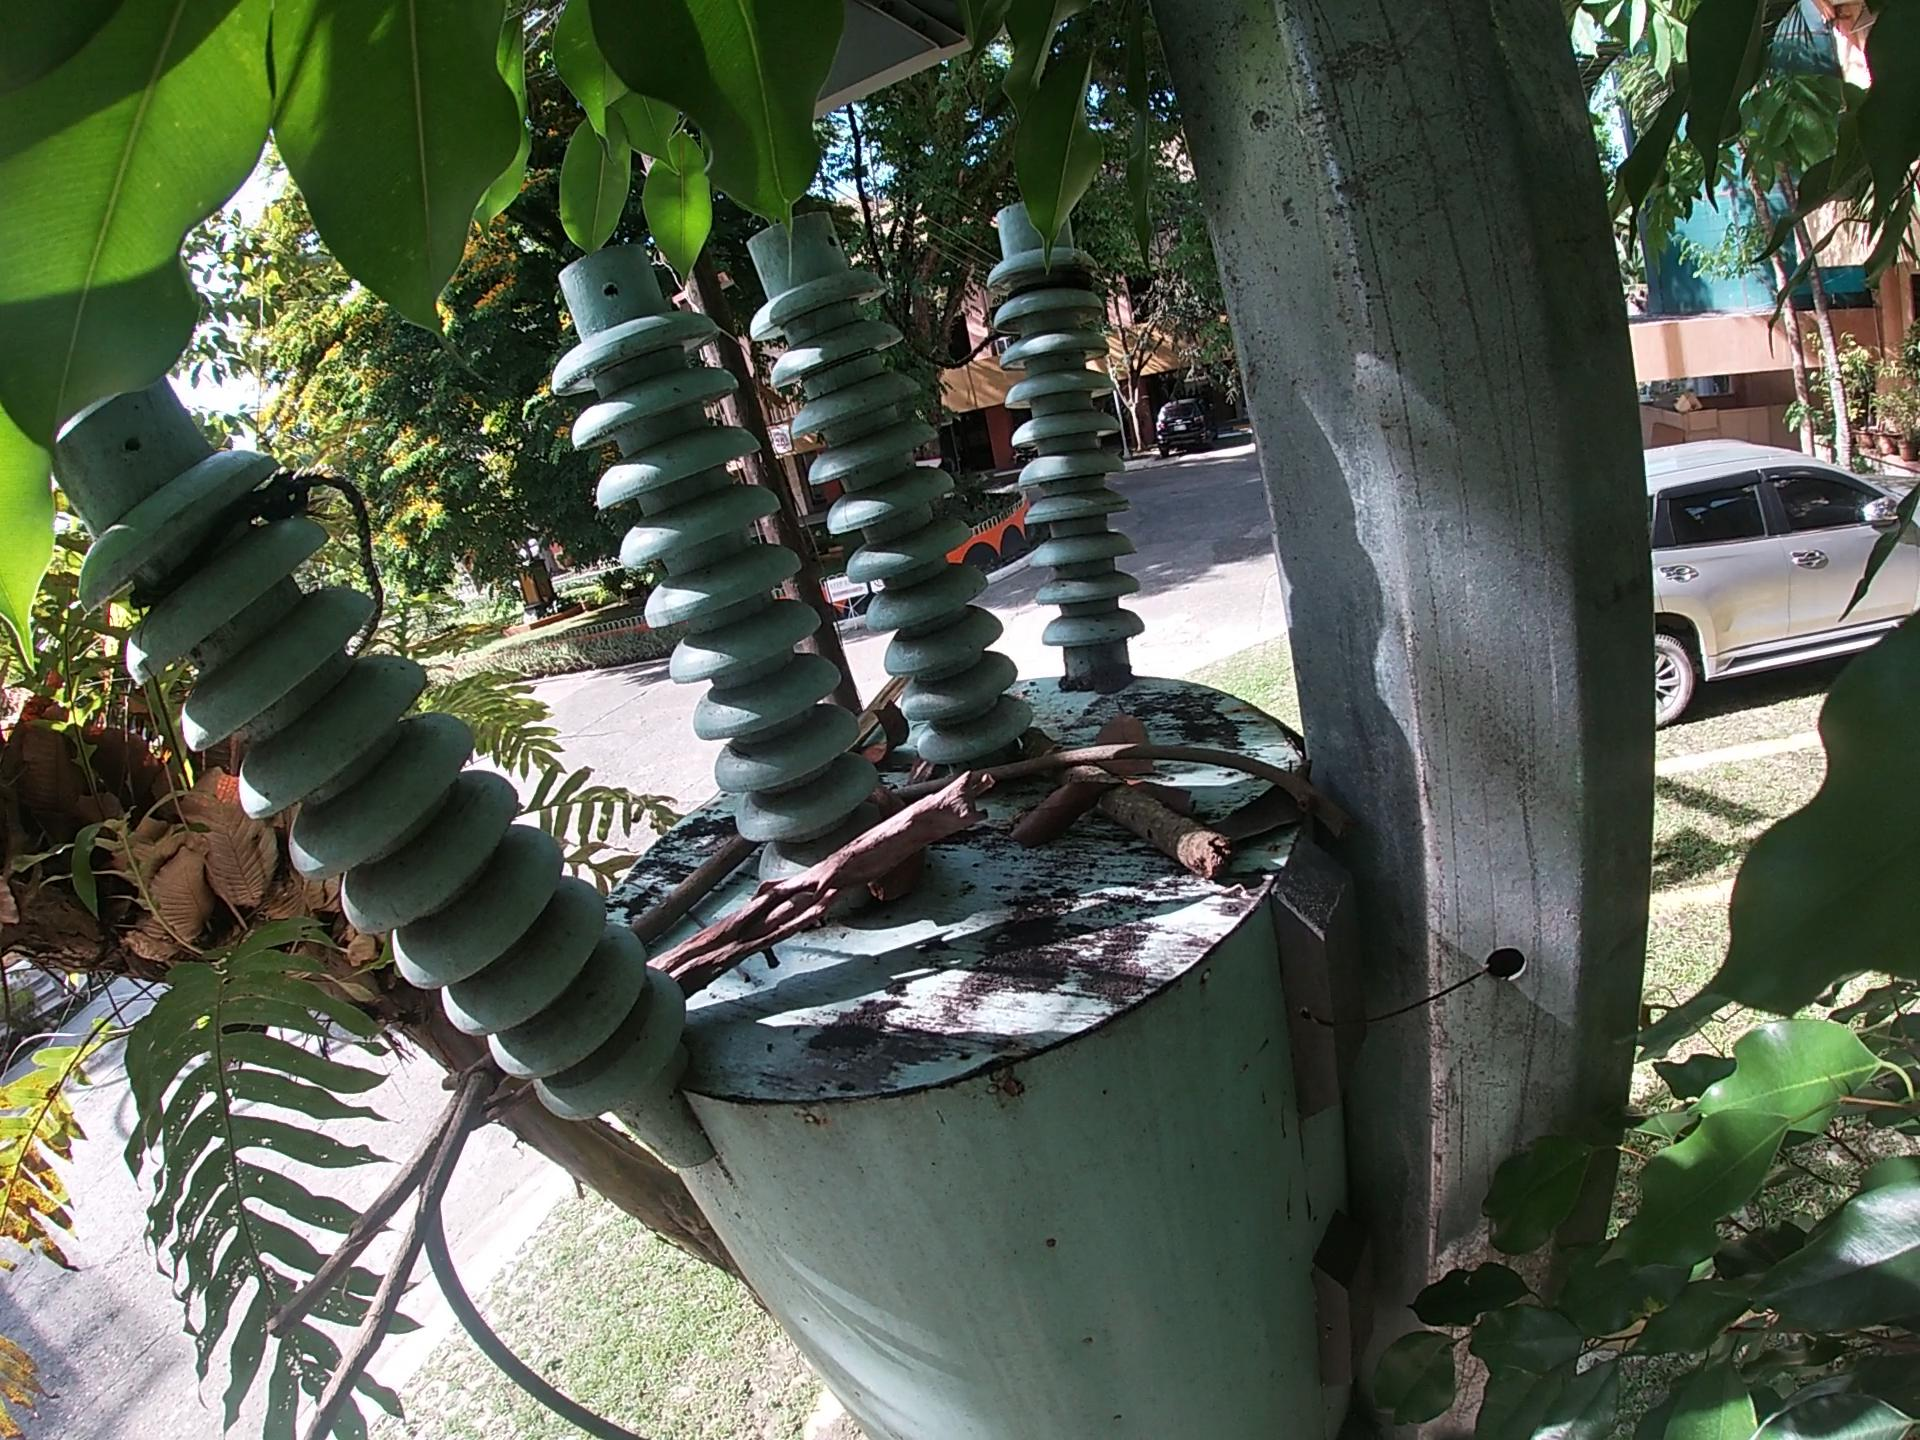leaf: (1008, 779, 1126, 864), (1101, 711, 1166, 781)
mahogany fruit: (871, 697, 901, 743)
tree branch: (251, 1071, 556, 1438), (652, 756, 1017, 992), (1033, 734, 1258, 885), (875, 746, 1327, 793), (629, 843, 739, 959), (845, 661, 915, 750)
